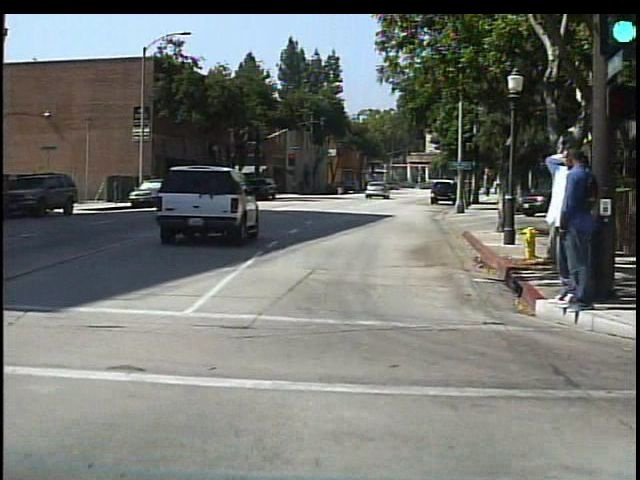person: (556, 146, 597, 314), (539, 145, 580, 306), (333, 176, 347, 196)
